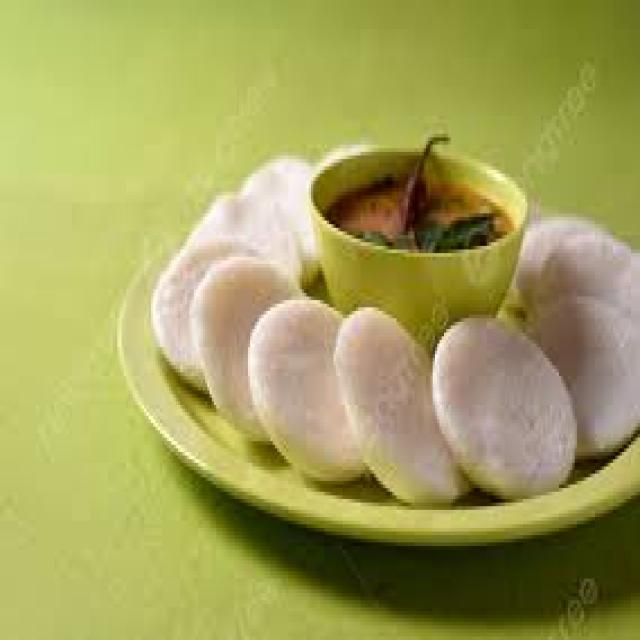IDLI: (152, 140, 345, 388), (428, 313, 581, 504), (521, 210, 638, 447), (340, 306, 465, 513), (249, 300, 369, 475), (190, 258, 295, 442)
